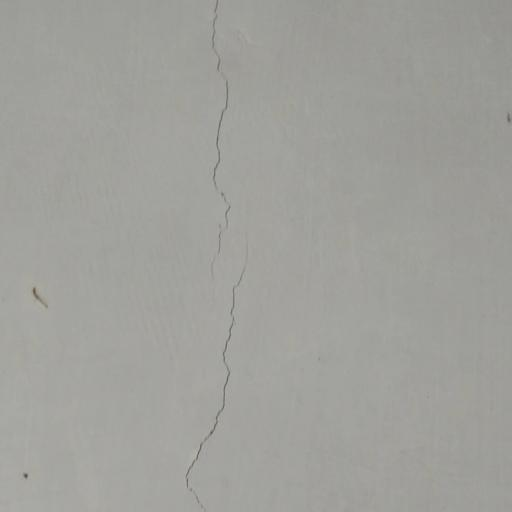minor_crack: (176, 0, 259, 512)
